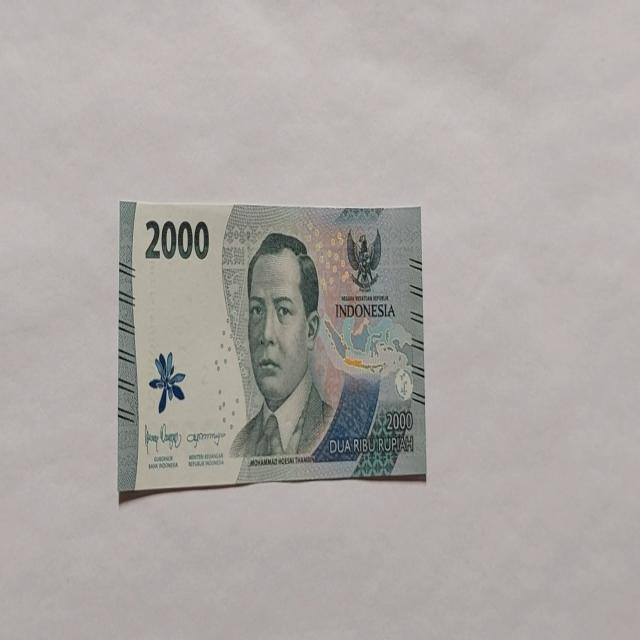dua ribu rupiah: (117, 198, 426, 498), (228, 230, 336, 467)
